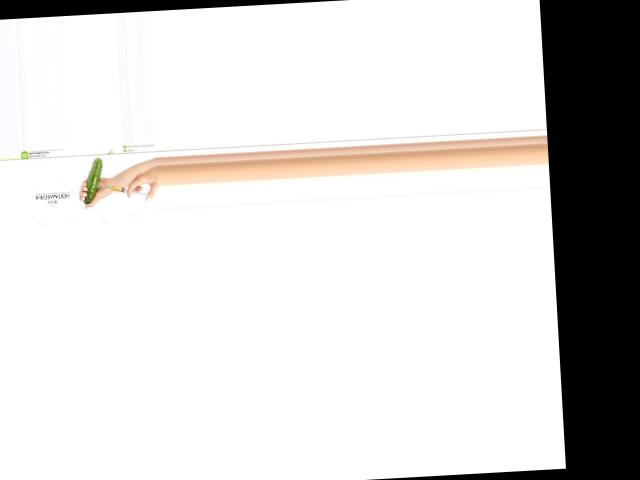cucumber: (81, 157, 105, 204)
